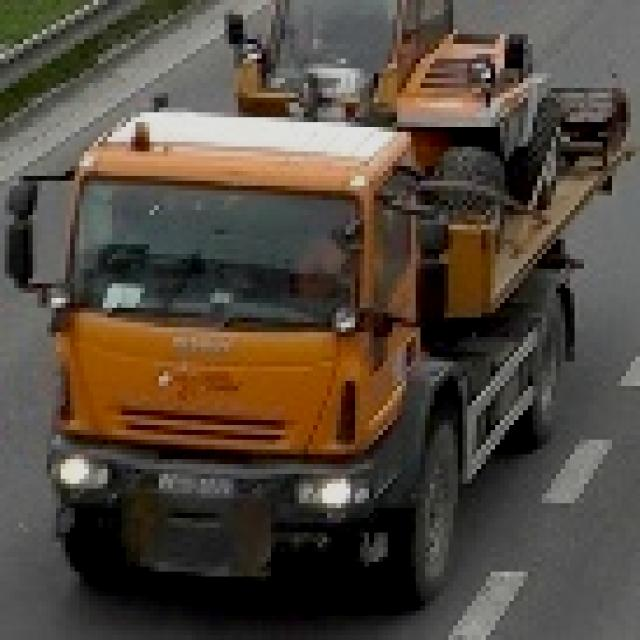truck: (1, 1, 632, 602)
